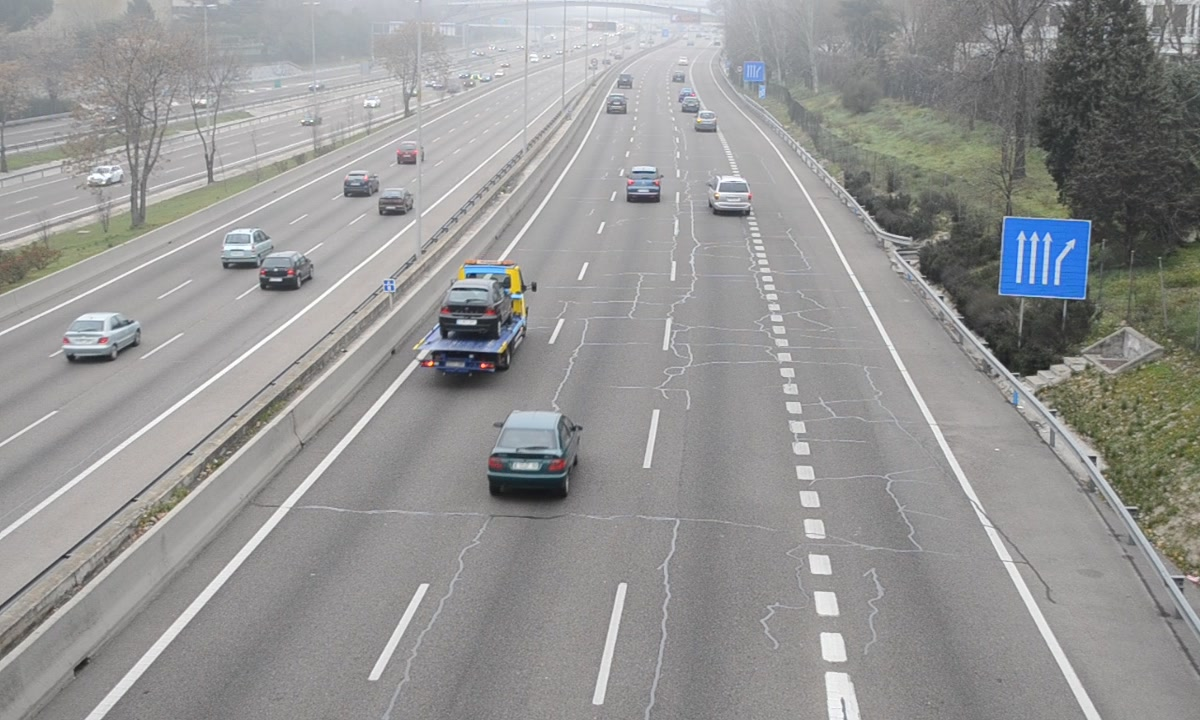car: (487, 411, 577, 489), (710, 175, 753, 214), (626, 165, 662, 199), (694, 108, 718, 133), (606, 92, 626, 114)
small-truck: (415, 260, 526, 376)
